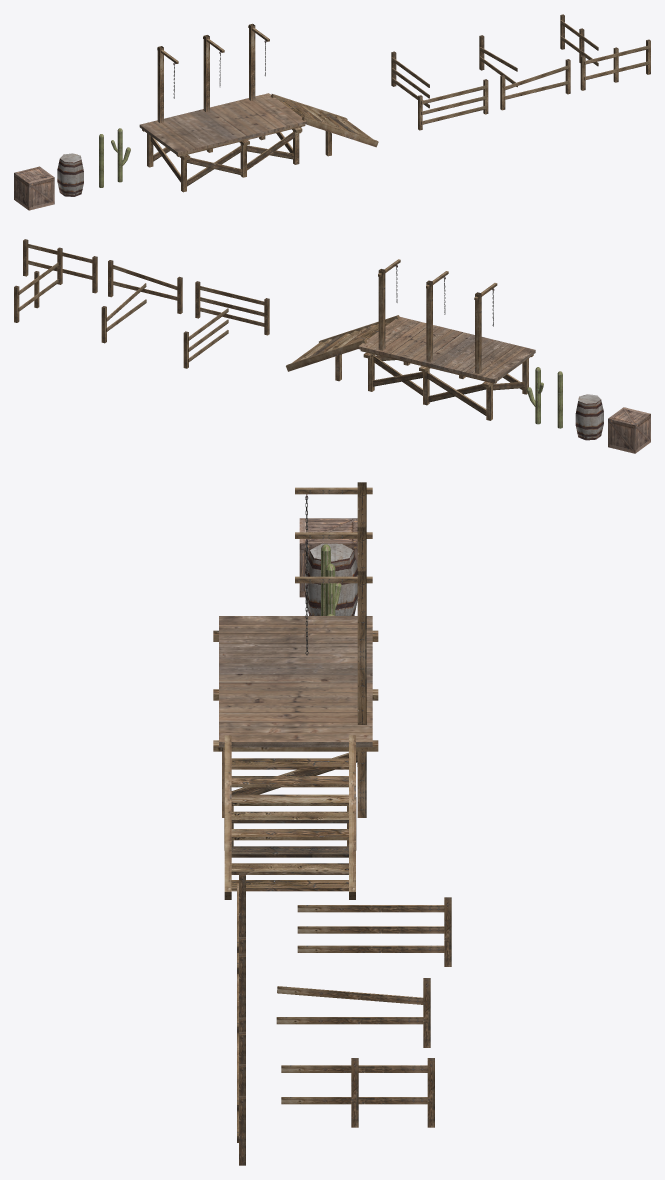
3 renders of one model, top to bottom at view 1: azimuth 30°, elevation 25°; view 2: azimuth 150°, elevation 25°; view 3: azimuth 270°, elevation 25°, orthographic. The views are drawn at different scales.
Visible parts, largest first — view 1: Box479, Box523, Guard1, Guard3, Barrel, Guard2, Guard1_row, Guard3_row, Box517, Box508, Box506, Box504 (+5 smaller); view 2: Box479, Box523, Guard1, Barrel, Guard3, Guard2, Guard1_row, Guard3_row, Box504, Box518, Guard2_row, Box508 (+7 smaller); view 3: Box479, Guard1_row, Guard3_row, Guard2_row, Barrel, Box523, Box504, Box513, Box515, Box510, Box514, Box512 (+6 smaller).
Boxes of the visible parts, x1,y1,x2,y2 form: Box479: [139, 93, 307, 155]; Box523: [14, 166, 54, 210]; Guard1: [418, 79, 488, 130]; Guard3: [580, 39, 650, 90]; Barrel: [57, 153, 83, 196]; Guard2: [500, 59, 570, 110]; Guard1_row: [391, 51, 429, 108]; Guard3_row: [560, 14, 598, 66]; Box517: [302, 116, 378, 147]; Box508: [157, 46, 163, 123]; Box506: [203, 35, 209, 111]; Box504: [249, 23, 255, 100]; Box479: [358, 317, 535, 382]; Box523: [608, 407, 650, 453]; Guard1: [195, 281, 269, 335]; Barrel: [575, 394, 603, 440]; Guard3: [23, 239, 97, 293]; Guard2: [108, 260, 182, 313]; Guard1_row: [183, 308, 228, 368]; Guard3_row: [14, 262, 58, 322]; Box504: [378, 269, 385, 350]; Box518: [286, 339, 366, 371]; Guard2_row: [101, 283, 146, 343]; Box508: [475, 292, 481, 373]; Box479: [219, 616, 372, 747]; Guard1_row: [297, 897, 451, 966]; Guard3_row: [281, 1058, 434, 1127]; Guard2_row: [276, 978, 430, 1047]; Barrel: [305, 543, 357, 615]; Box523: [299, 518, 357, 597]; Box504: [357, 571, 366, 724]; Box513: [231, 811, 348, 823]; Box515: [231, 846, 348, 857]; Box510: [231, 758, 348, 769]; Box514: [231, 829, 348, 840]; Box512: [231, 794, 348, 805].
Size of the model in its own units: 2308 by 433 by 392.
2 materials, 2 textured.
